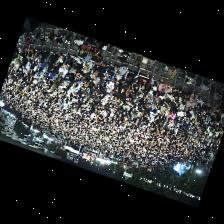person: (124, 61, 141, 82), (58, 56, 71, 75), (37, 53, 50, 70), (139, 71, 151, 89), (64, 66, 75, 84), (93, 62, 106, 76), (80, 67, 92, 81), (158, 82, 171, 94), (96, 83, 107, 97), (105, 75, 114, 92), (129, 79, 139, 94), (114, 65, 126, 77), (47, 52, 58, 65), (171, 87, 181, 101), (82, 59, 92, 72), (45, 67, 55, 80), (72, 56, 82, 69), (73, 70, 81, 86), (39, 49, 49, 61), (163, 99, 173, 111), (31, 52, 40, 65), (120, 80, 129, 93), (92, 72, 103, 82), (55, 53, 63, 66), (94, 77, 103, 88), (91, 85, 100, 96), (114, 74, 123, 85), (202, 102, 211, 113), (163, 91, 172, 102), (107, 63, 114, 77), (195, 96, 202, 110), (181, 91, 189, 103), (167, 111, 175, 122), (186, 100, 194, 111), (117, 92, 125, 103), (103, 68, 109, 82), (26, 48, 34, 58), (143, 84, 151, 94), (209, 103, 216, 114), (101, 93, 108, 104), (40, 63, 47, 74), (189, 93, 197, 102), (147, 89, 153, 101), (177, 102, 184, 112), (153, 89, 160, 99), (173, 96, 180, 106), (160, 105, 167, 115), (151, 80, 158, 89), (213, 108, 220, 117), (96, 41, 105, 48), (201, 109, 207, 119), (125, 87, 131, 97), (20, 47, 27, 55), (176, 111, 182, 119), (138, 87, 143, 96), (157, 95, 163, 102), (183, 106, 187, 114), (220, 112, 223, 122)
